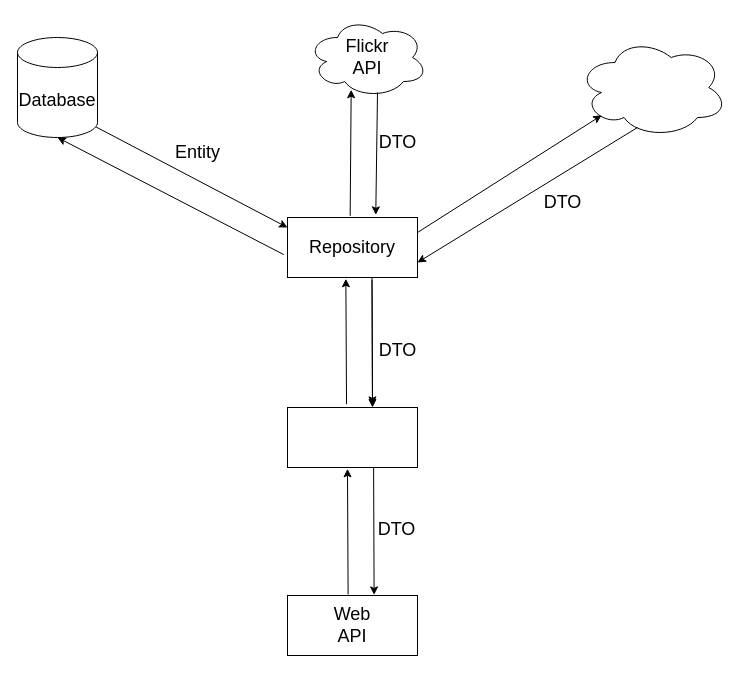
The diagram is 745 pixels wide and 673 high, and some of its shapes have lost their labels. Here are the shapes that lost their labels. From the top down, the centre of each, then its label:
point (652, 87): Foursquare API
point (352, 437): Business
